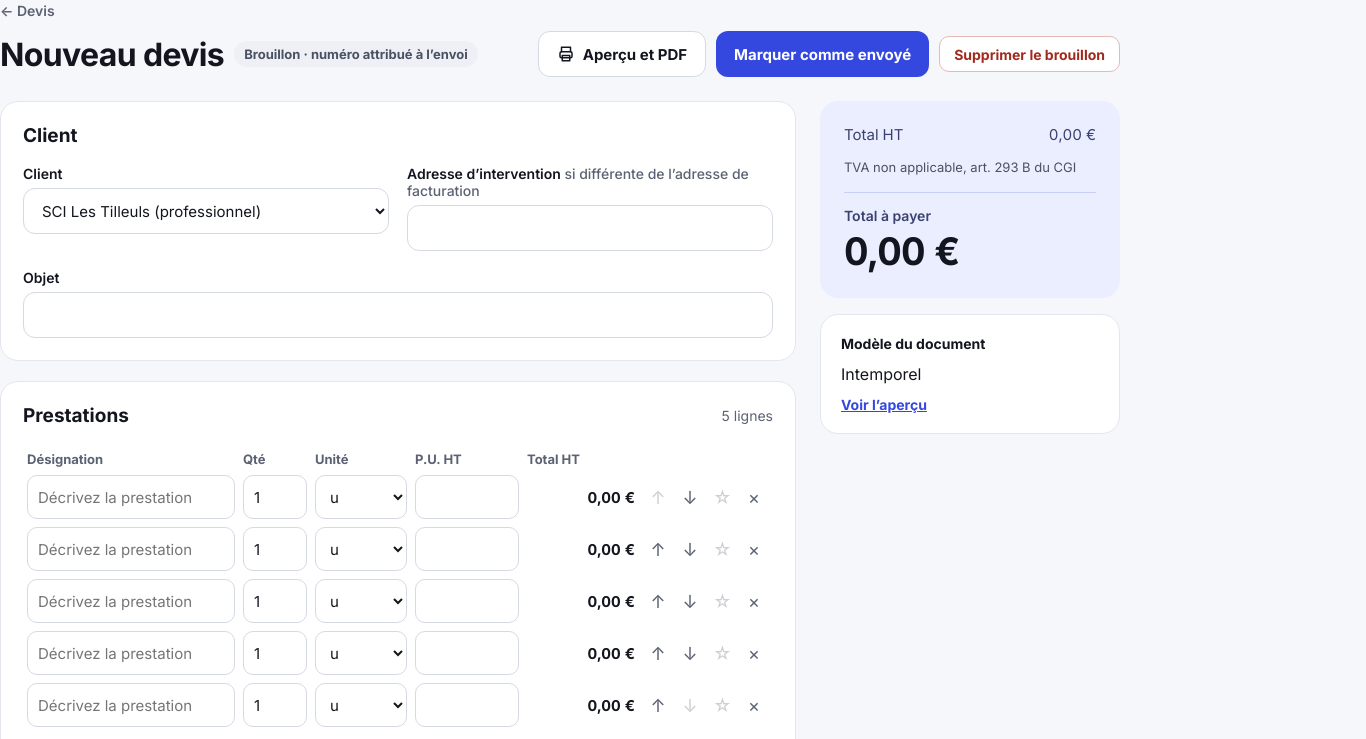
it: demande confirmation avant de quitter quand l’enregistrement échoue
Type "Cuisine" into the field labelled "Objet" at (398, 315), box 23,292 -> 773,338
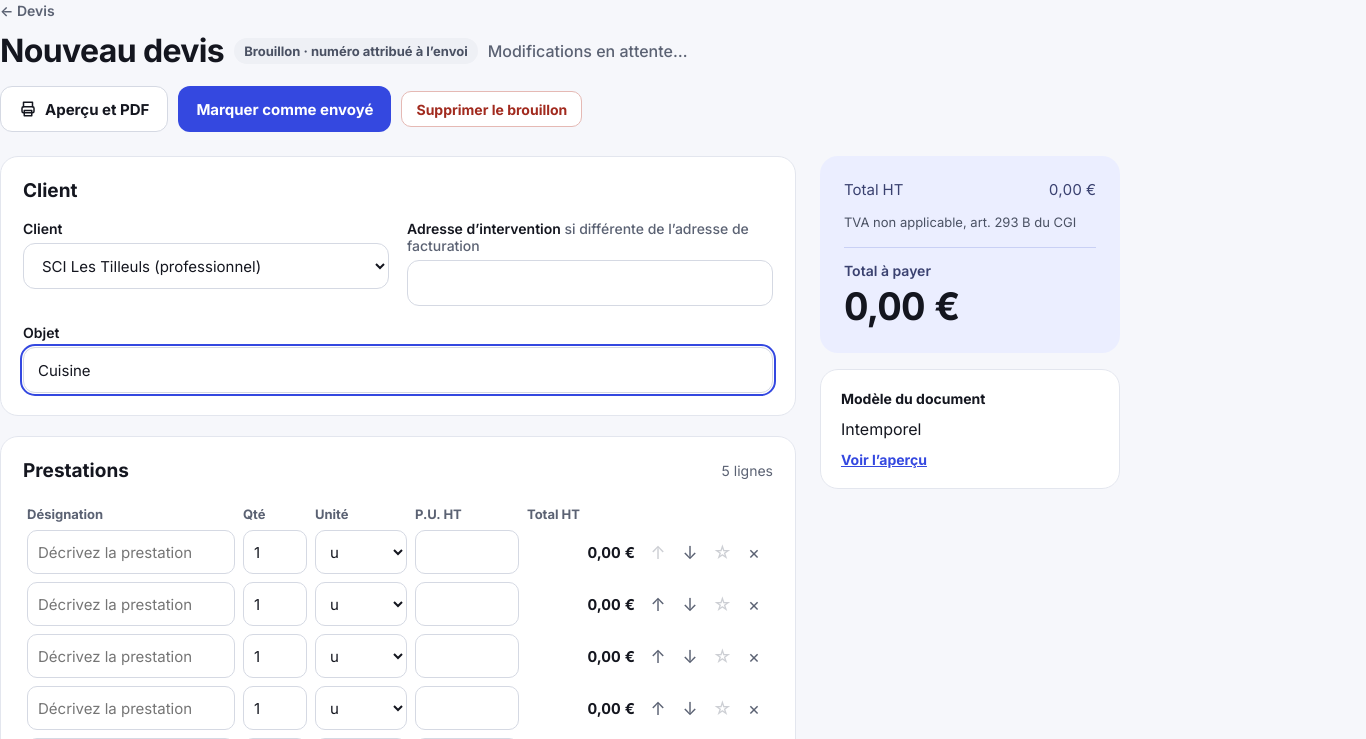
Click the link "← Devis" at (27, 10), box 0,2 -> 55,19
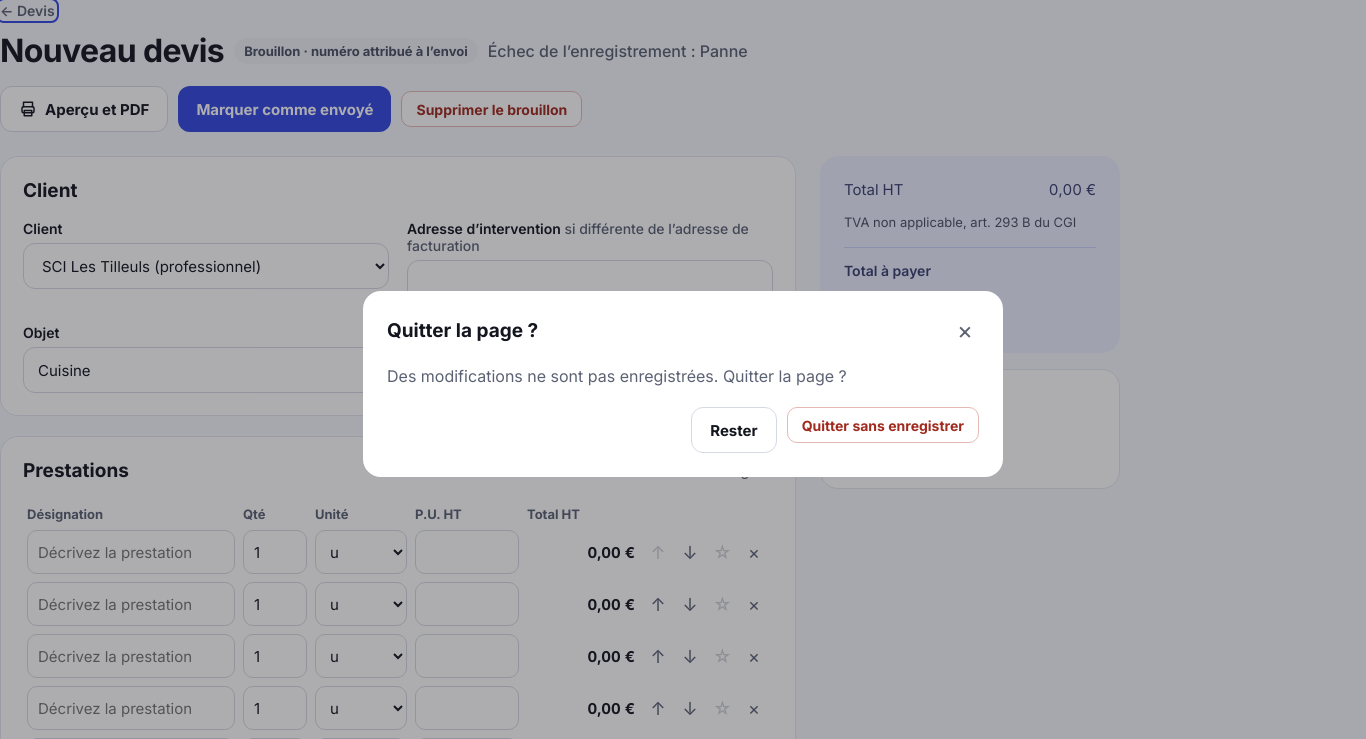
Result: the dialog "Quitter la page ?" is shown at 363,291 -> 1003,477
